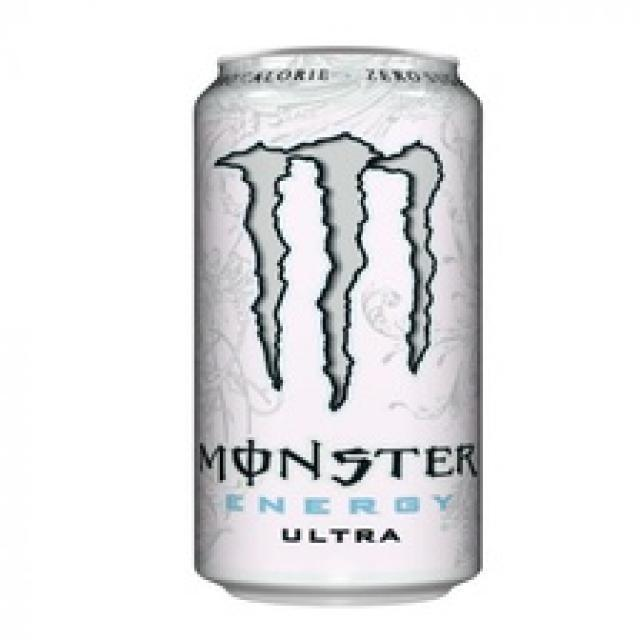recyclable: (190, 44, 486, 607)
